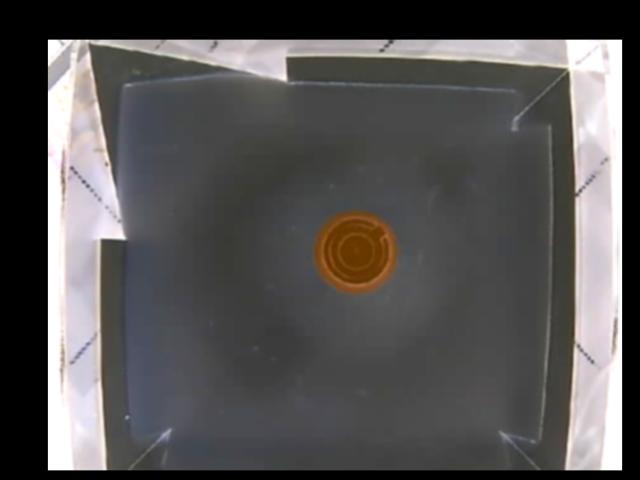Cup: (314, 214, 396, 290)
